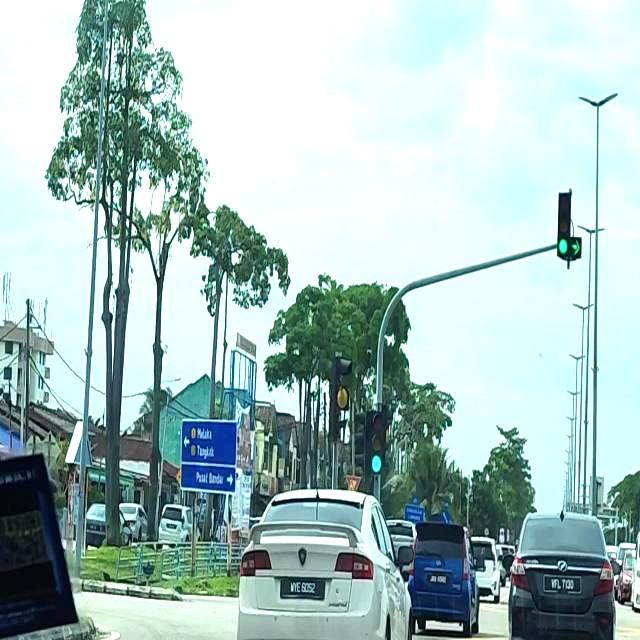Green: (556, 191, 571, 258), (371, 412, 384, 474), (570, 193, 582, 258)
